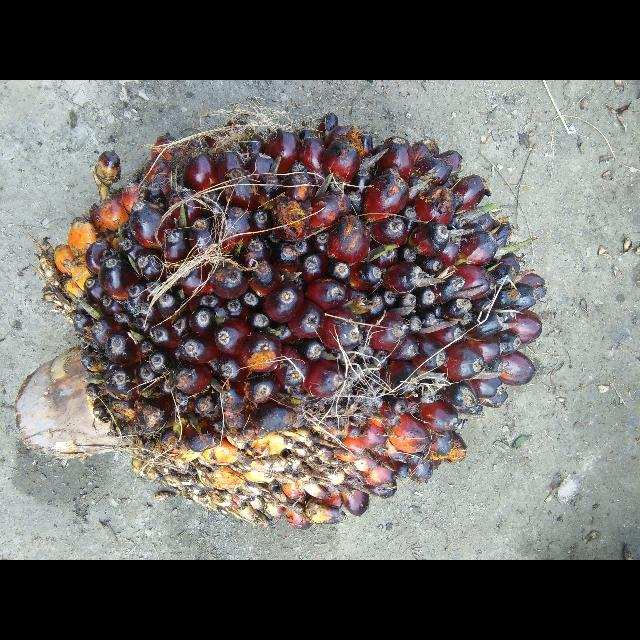Unripe: (34, 118, 543, 533)
